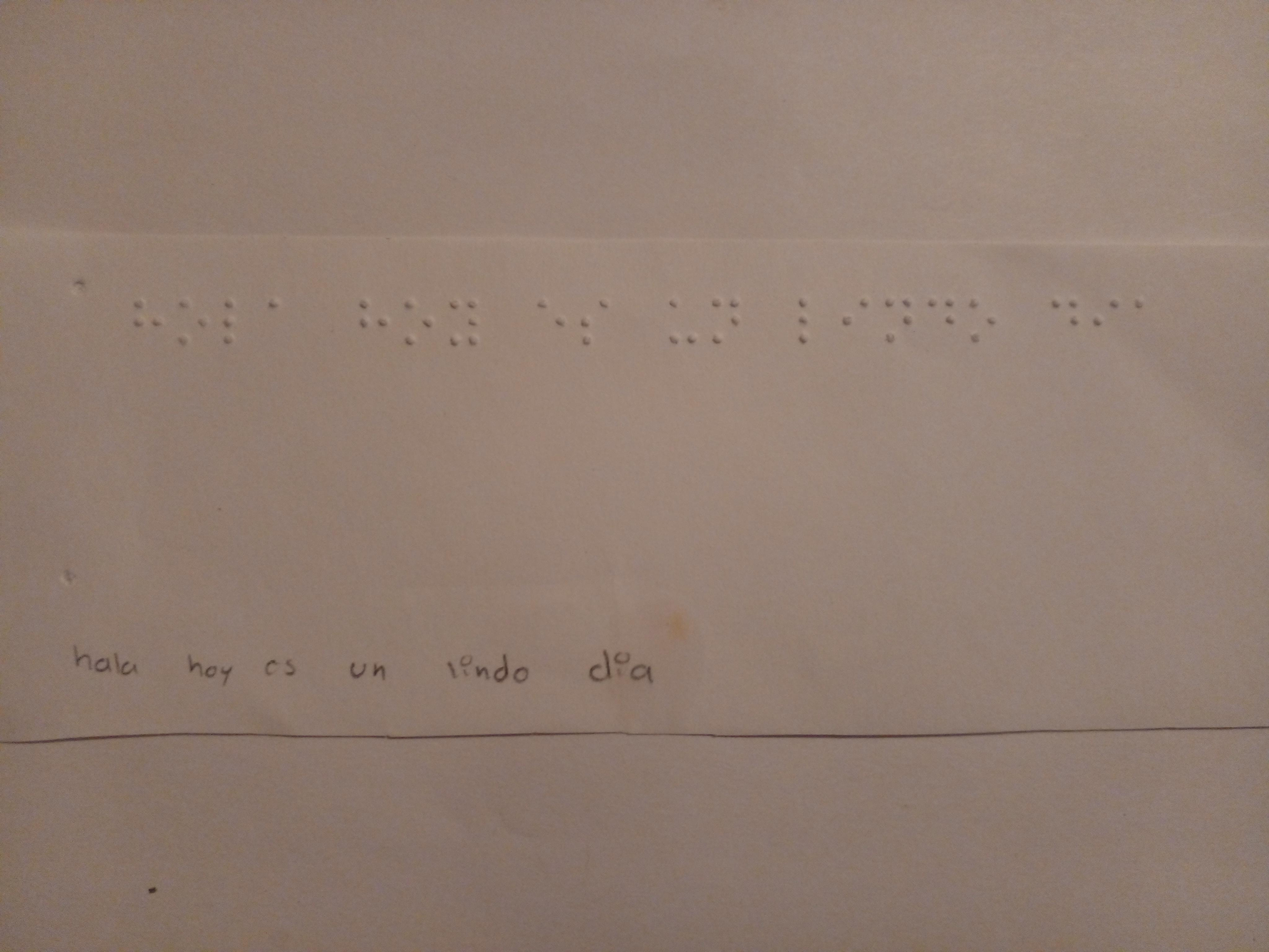a: (1125, 293, 1151, 339), (263, 294, 287, 327)
d: (920, 287, 959, 347), (1049, 287, 1083, 344)
e: (534, 291, 570, 358)
h: (121, 290, 167, 346), (349, 291, 384, 350)
i: (838, 291, 872, 352), (1092, 290, 1123, 341)
l: (784, 290, 821, 356), (217, 291, 251, 352)
n: (708, 287, 747, 352), (881, 291, 914, 352)
o: (395, 296, 437, 359), (965, 288, 1001, 356), (170, 293, 209, 347)
s: (578, 288, 610, 356)
u: (666, 290, 703, 355)
y: (446, 288, 485, 356)
